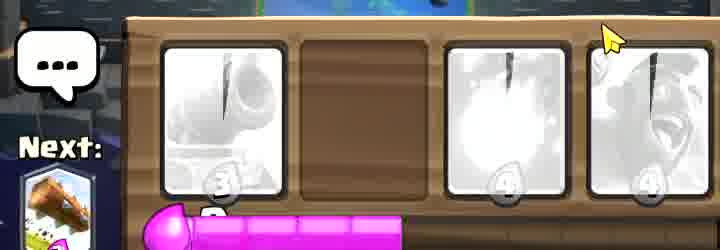log: (24, 167, 93, 250)
